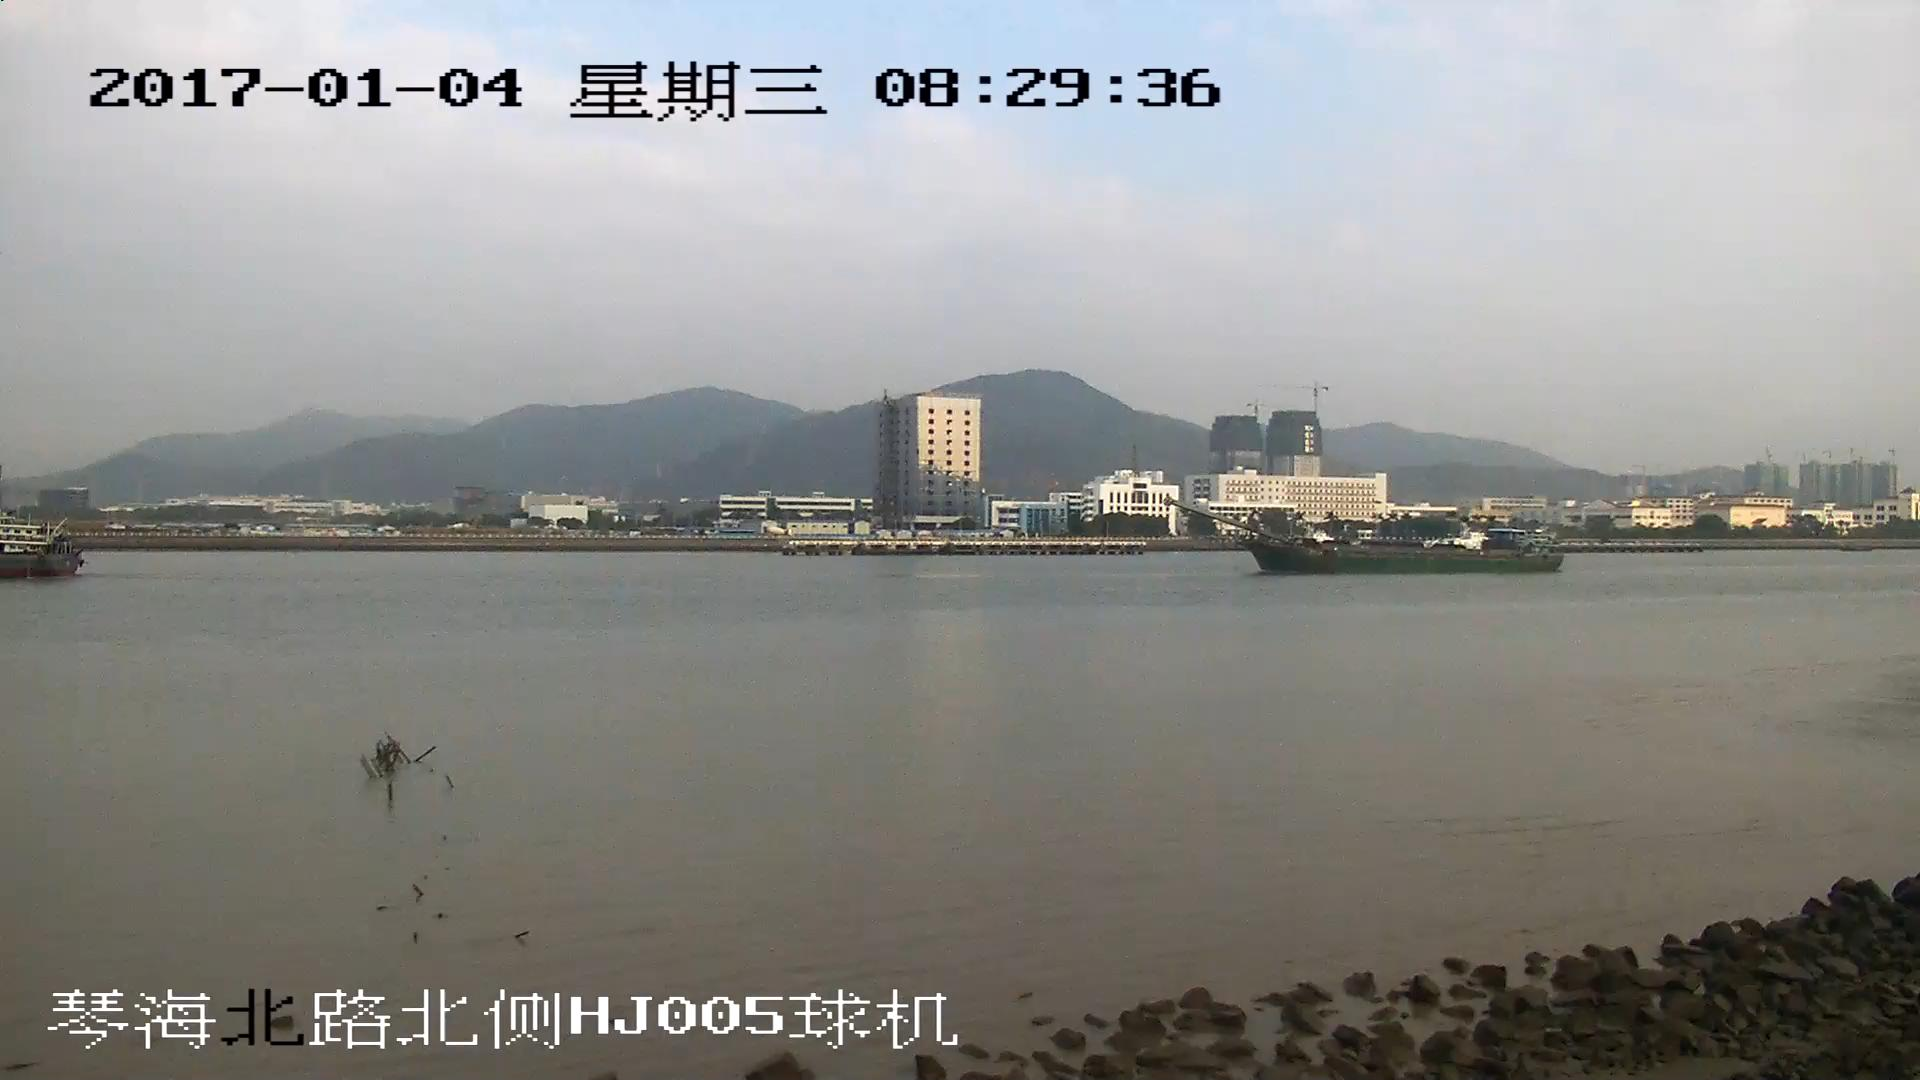bulk cargo carrier: (1166, 498, 1567, 573)
